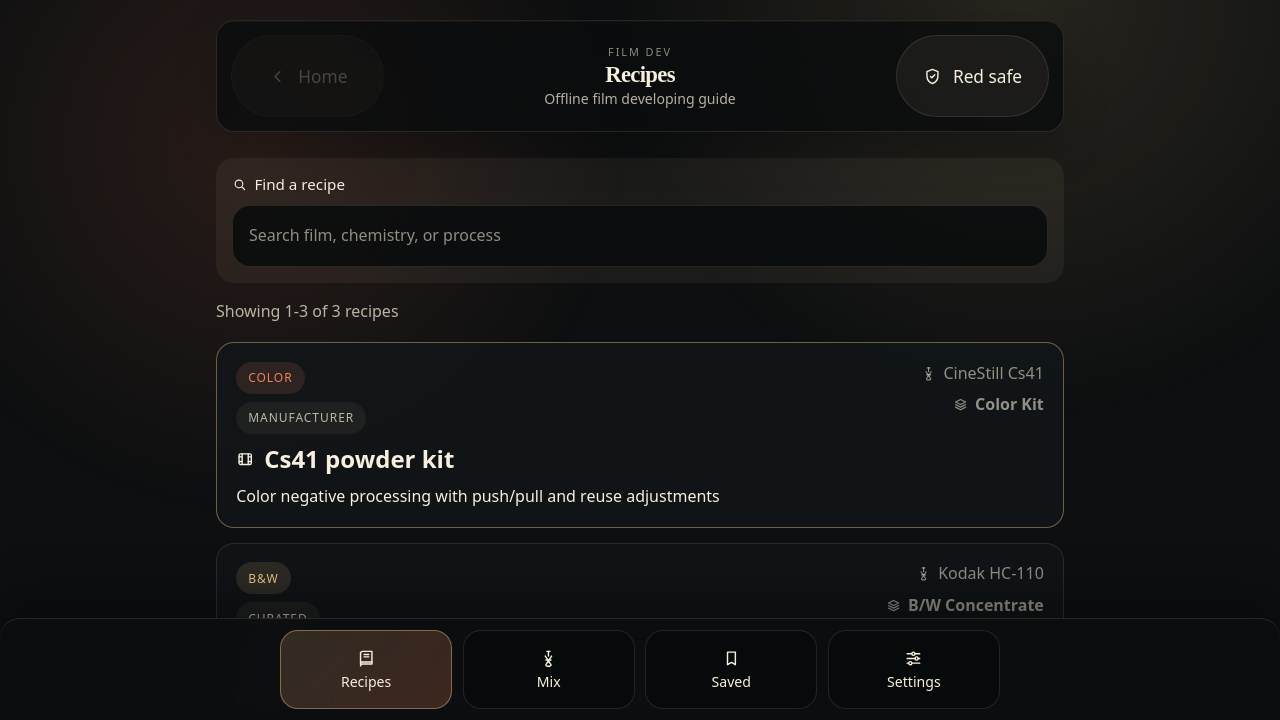
Test: App › asks for previously processed Cs41 units and exposes the optional blix extension toggle
This screenshot has width=1280, height=720.
Click the button "Cs41 powder kit" at (640, 435), box x1=216 y1=342 x2=1064 y2=528
(page scrolled)
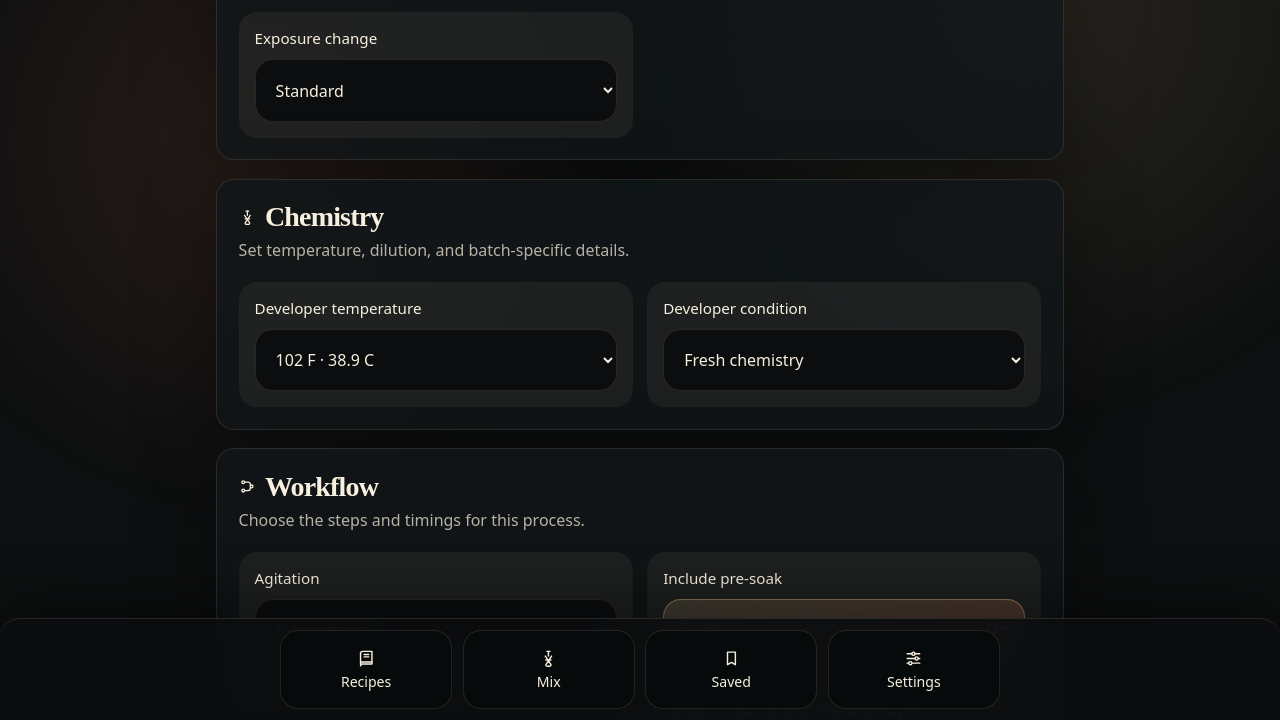
Select "Reused chemistry" in the dropdown labelled "Developer condition" at (844, 360), box x1=663 y1=329 x2=1025 y2=391
(page scrolled)
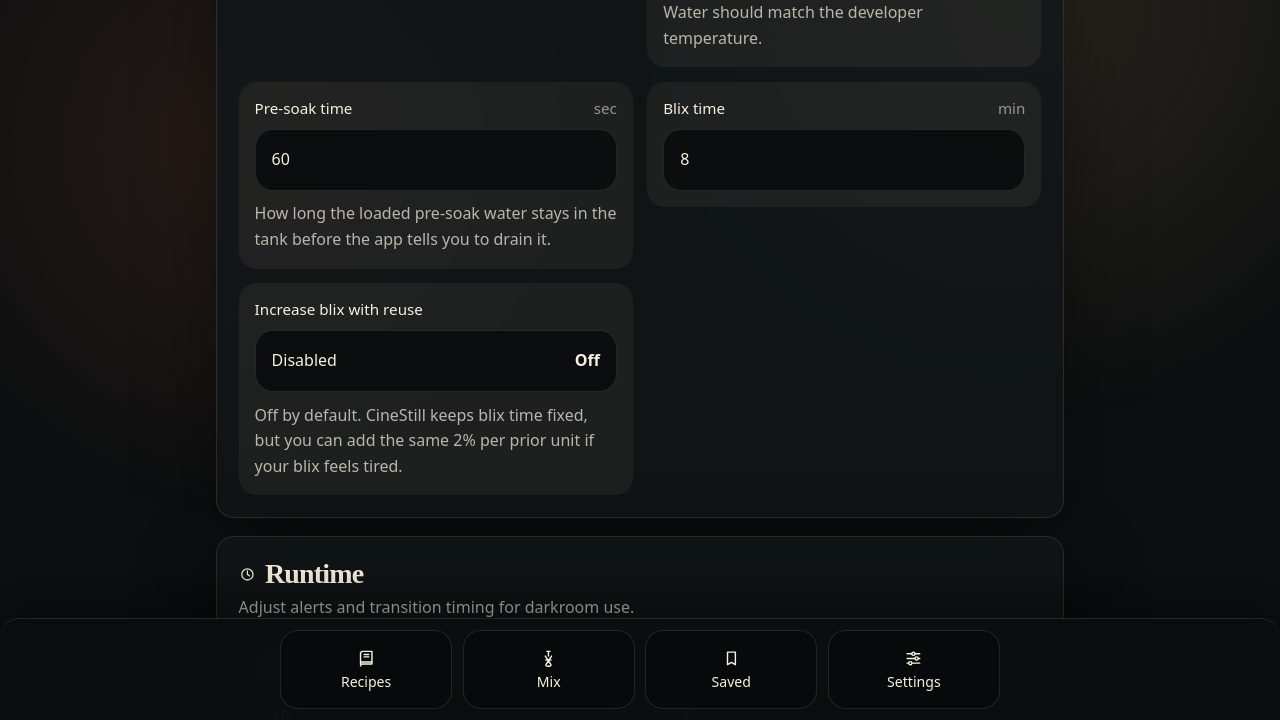
Expected: the button with aria-label "Increase blix with reuse" is shown, x1=255 y1=330 x2=617 y2=392
